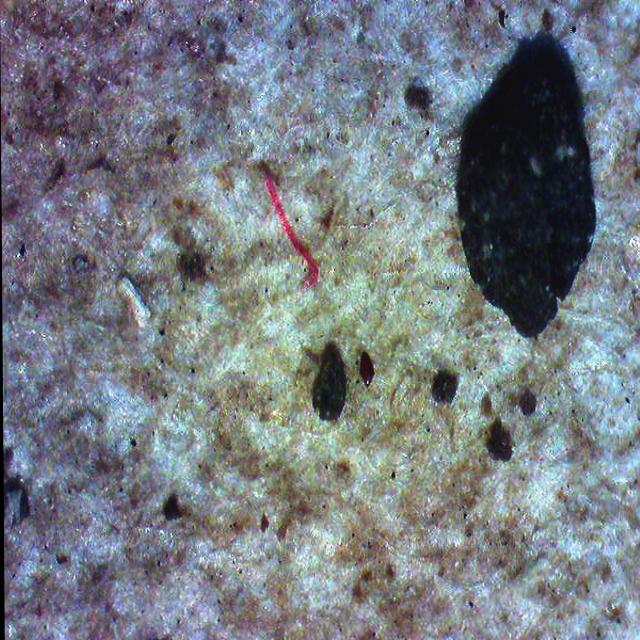microplastic: (248, 172, 325, 290)
